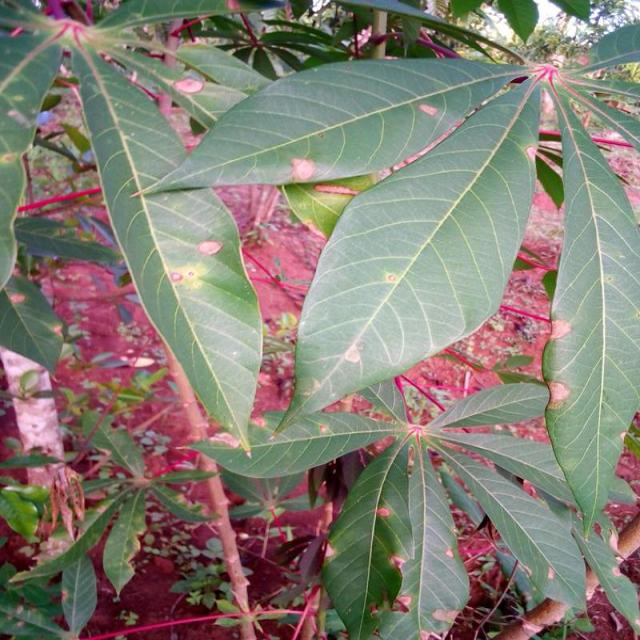cassava leaf: (272, 70, 544, 440), (70, 31, 265, 450), (542, 75, 640, 537)
